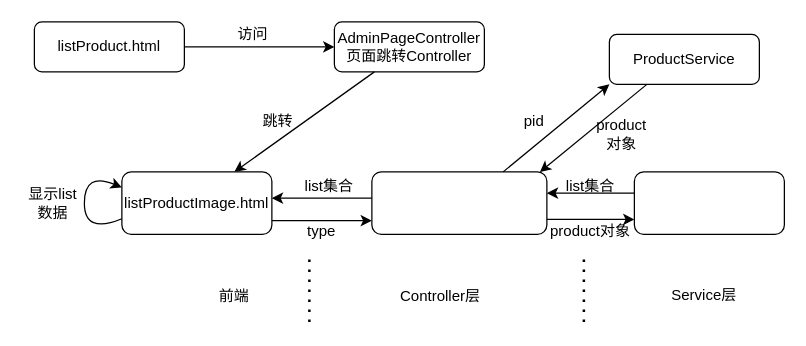
This 806x346 diagram has some shape labels left out. The centre of each missing label's shape, as x and y in pixels:
"ProductImageController" goes at (459,202).
"ProductImageService" goes at (708,202).
